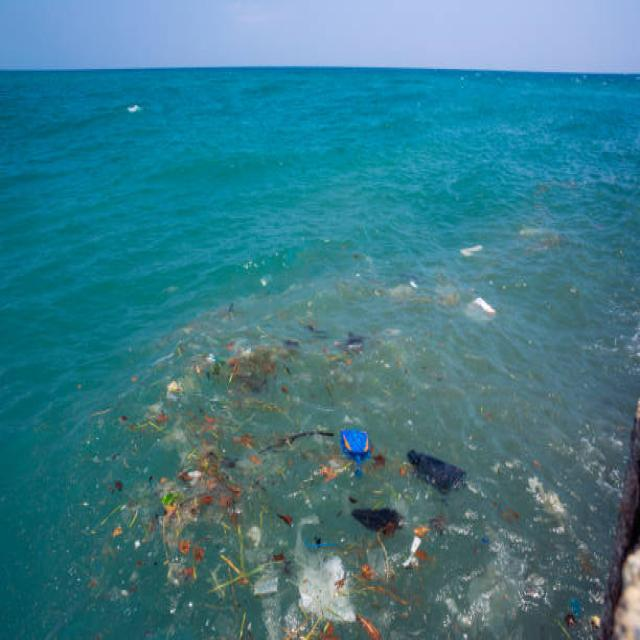garbage: (99, 349, 487, 640)
